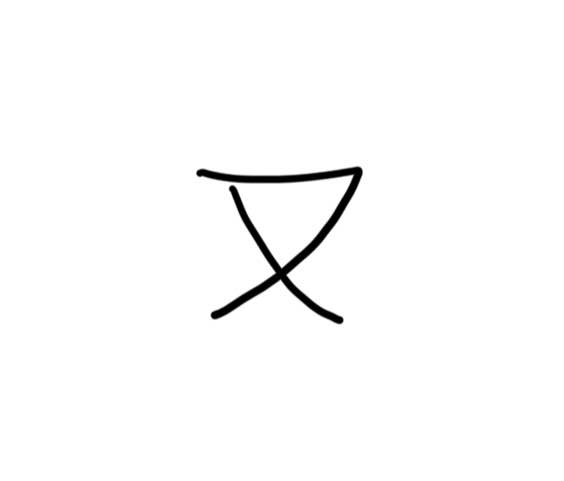nu: (185, 161, 368, 330)
